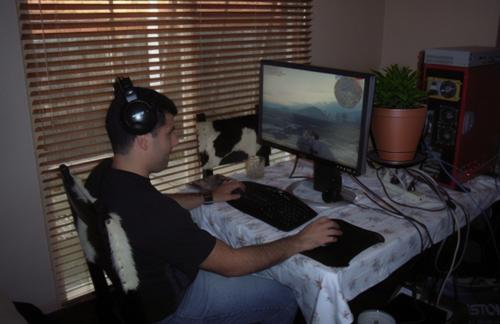person: (84, 86, 339, 324)
person/hand: (297, 216, 344, 250), (213, 180, 246, 202)
person/head: (104, 87, 179, 174)
pottedplant: (367, 64, 425, 168)
tvmonitor: (258, 60, 374, 214)
